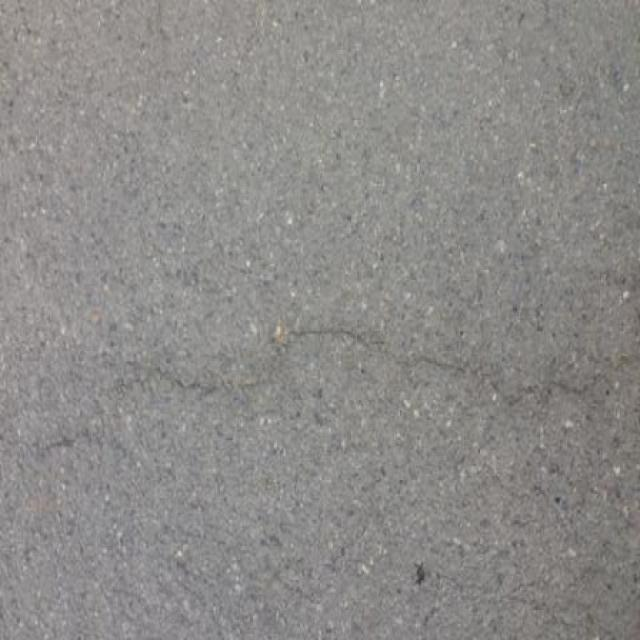Alligator Crack: (0, 325, 640, 467)
